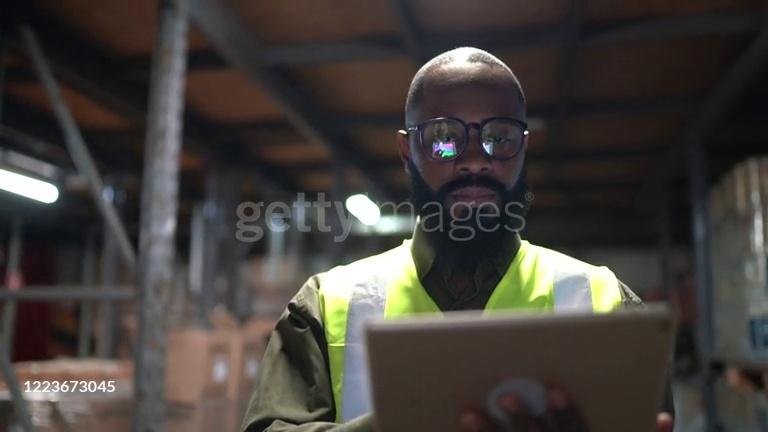person: (238, 45, 650, 432)
